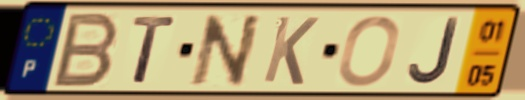B: (48, 10, 123, 89)
J: (405, 15, 462, 88)
K: (259, 13, 322, 88)
N: (188, 12, 266, 89)
O: (335, 13, 403, 89)
T: (129, 14, 180, 86)
